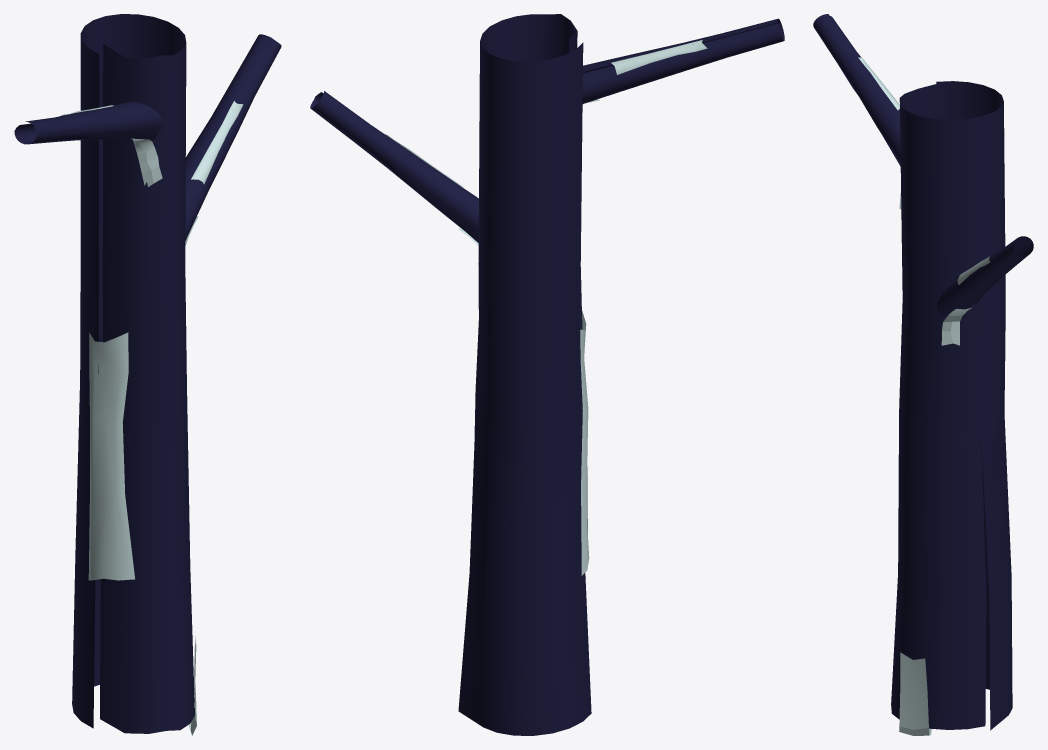
The model's file is SM_Tronc_02.FBX.
3 views of the same model, side by side, from view 1: azimuth 30°, elevation 25°; view 2: azimuth 150°, elevation 25°; view 3: azimuth 270°, elevation 25° (orthographic). The views are drawn at different scales.
Parts seen in each view (by area): view 1: SM_Tronc_02; view 2: SM_Tronc_02; view 3: SM_Tronc_02.
Boxes of the visible parts, x1,y1,x2,y2 form: SM_Tronc_02: [14, 14, 281, 735]; SM_Tronc_02: [310, 14, 784, 735]; SM_Tronc_02: [813, 14, 1033, 735].
Size of what is drawn, in the model's own units: 201 by 364 by 116.
